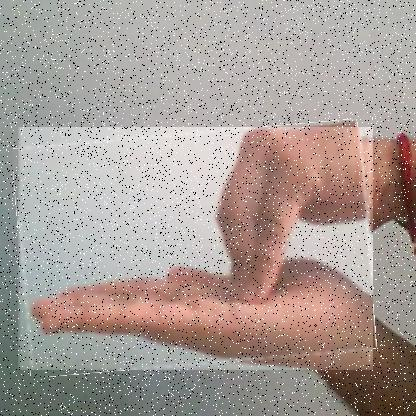Z: (17, 127, 372, 371)
